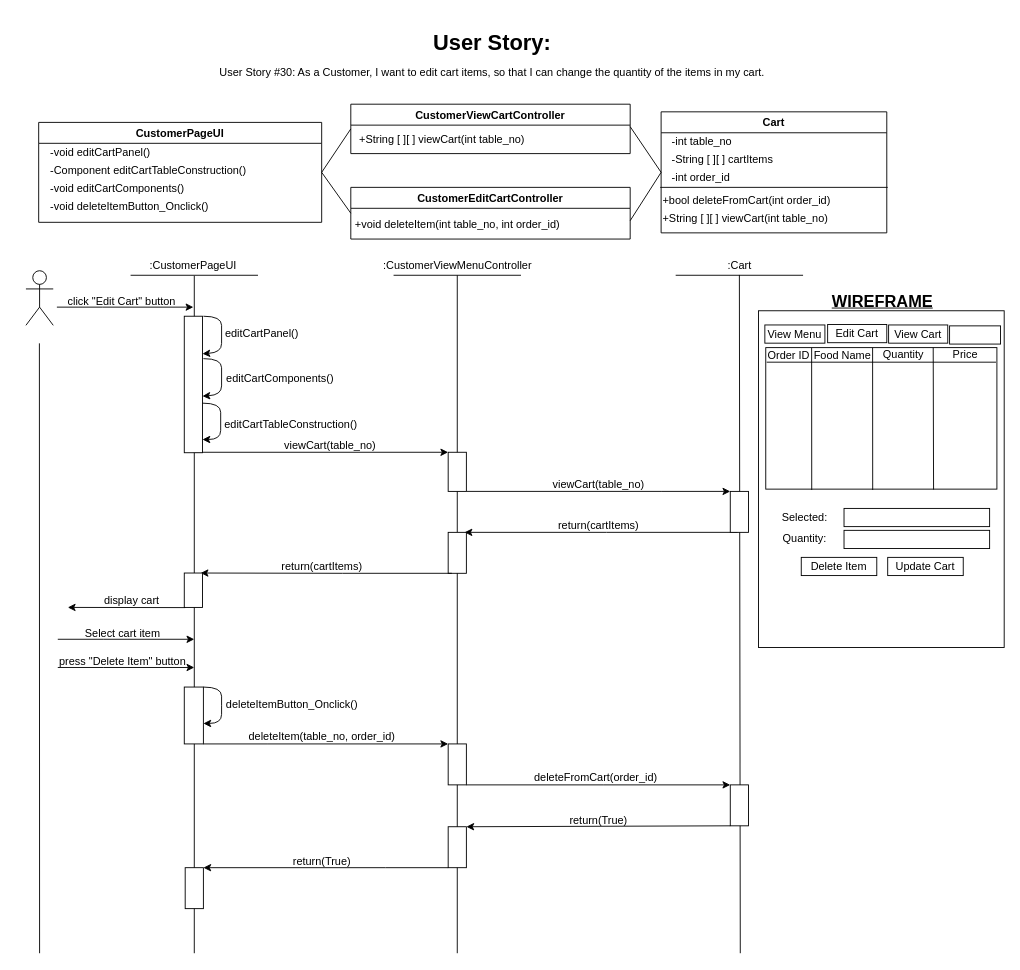
Some shapes in this 1020 by 970 pixel diagram are drawn without their labels. The shapes that lost their labels are listed below. From the top down, each one's centre as x and y in pixels, then its label:
the point at 39,297: Customer
the point at 975,334: Payment
